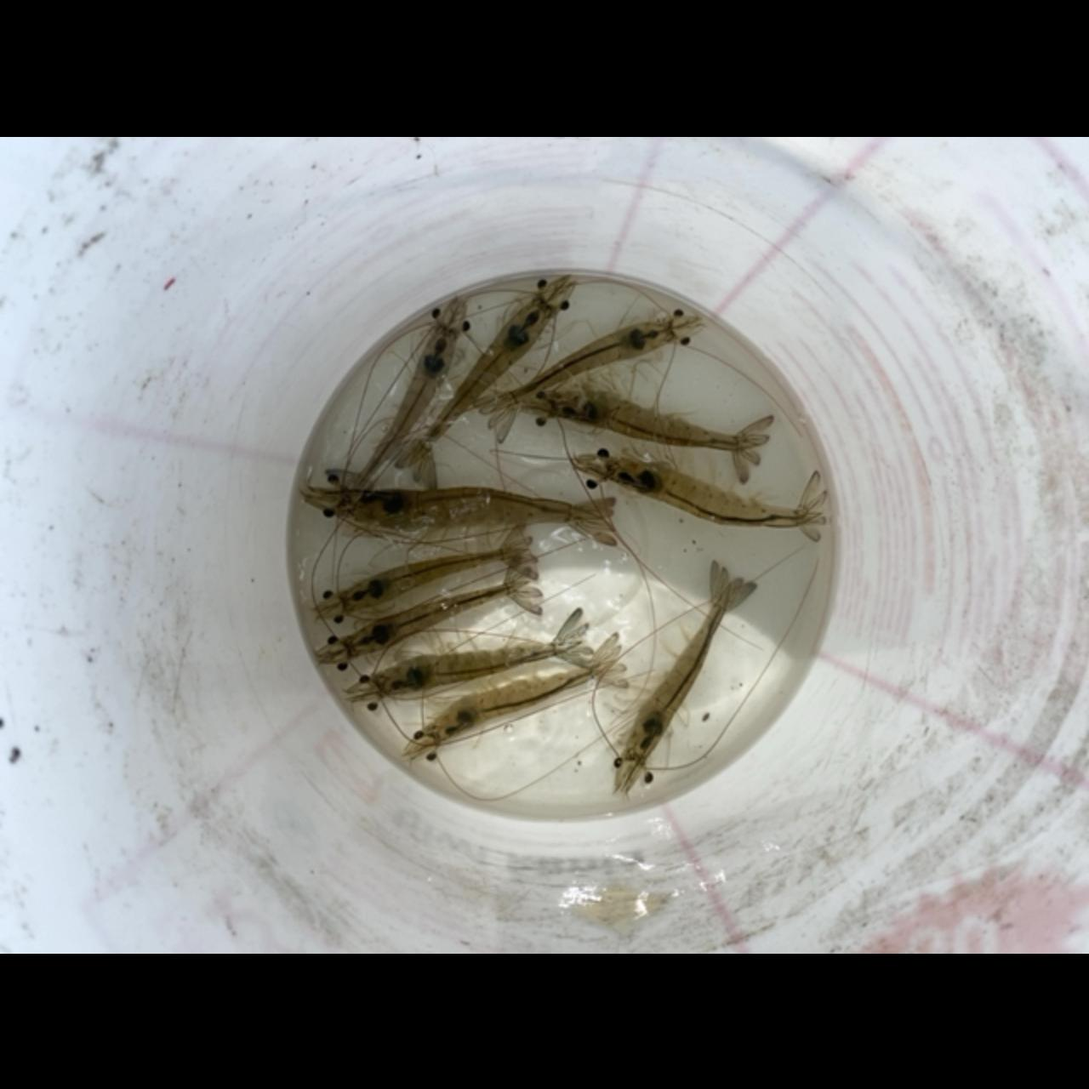top_shrimp: (406, 296, 550, 466), (624, 578, 730, 763), (346, 327, 456, 494), (488, 319, 673, 411), (600, 456, 822, 529), (429, 664, 618, 749), (344, 581, 530, 658), (335, 545, 533, 612), (547, 389, 760, 450), (374, 637, 583, 699), (339, 486, 605, 529)
